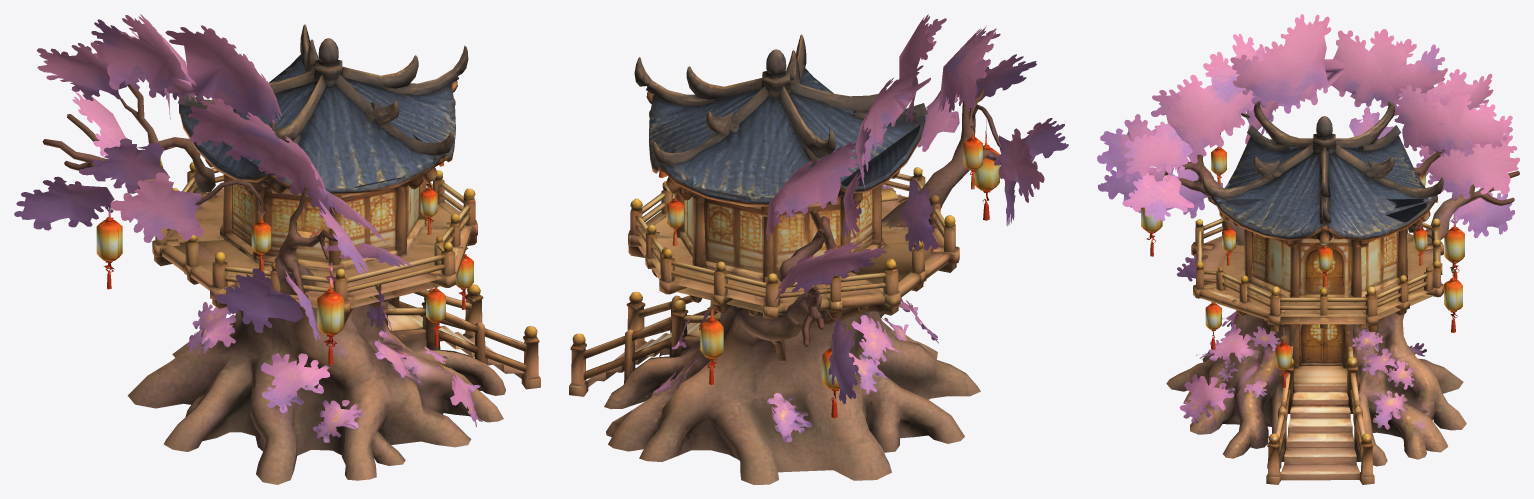
The model's file is ch04-purple-treehouse.glb.
3 renders of one model, left to right at view 1: azimuth 30°, elevation 25°; view 2: azimuth 150°, elevation 25°; view 3: azimuth 270°, elevation 25°, orthographic. The views are drawn at different scales.
Visible parts, largest first — view 1: tripo_node_5a4ae81d-476c-4e1c-9940-6abd7816a5ab; view 2: tripo_node_5a4ae81d-476c-4e1c-9940-6abd7816a5ab; view 3: tripo_node_5a4ae81d-476c-4e1c-9940-6abd7816a5ab.
Boxes of the visible parts, x1,y1,x2,y2 form: tripo_node_5a4ae81d-476c-4e1c-9940-6abd7816a5ab: (14,14,540,484); tripo_node_5a4ae81d-476c-4e1c-9940-6abd7816a5ab: (569,14,1068,484); tripo_node_5a4ae81d-476c-4e1c-9940-6abd7816a5ab: (1097,14,1519,484).
Size of the model in its own units: 0.938 by 0.9009 by 0.9995.
Materials: 1 (1 with a texture image).
